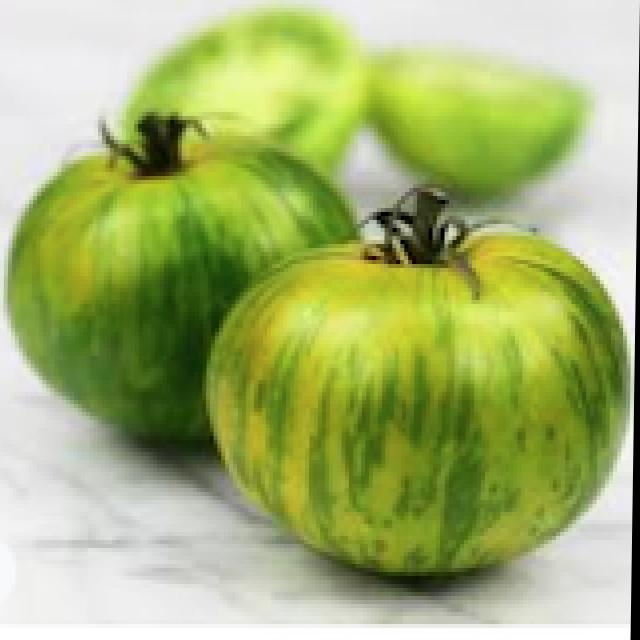yesil: (0, 60, 635, 582)
